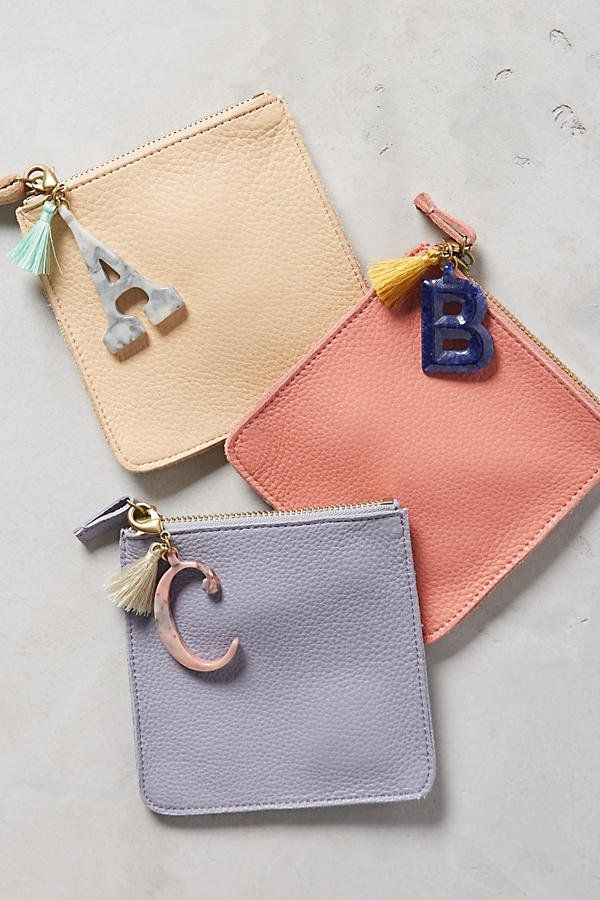cuero: (17, 89, 600, 819)
